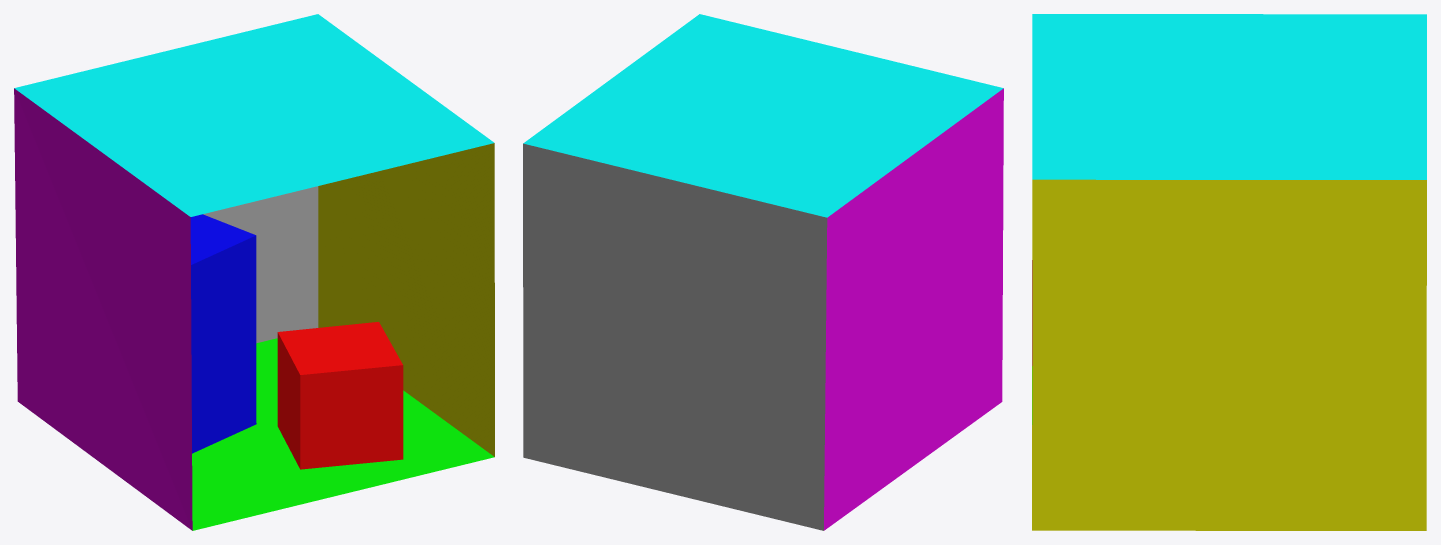
Rendered from cornell-box.obj.
The picture shows the model from 3 angles, left to right: view 1: azimuth 30°, elevation 25°; view 2: azimuth 150°, elevation 25°; view 3: azimuth 270°, elevation 25°; orthographic projection. The views are drawn at different scales.
Visible parts, largest first — view 1: left_wall, ceiling, right_wall, floor, short_box, tall_box, back_wall; view 2: back_wall, left_wall, ceiling; view 3: right_wall, ceiling.
Boxes of the visible parts, x1,y1,x2,y2 form: left_wall: [14, 88, 192, 530]; ceiling: [14, 14, 494, 216]; right_wall: [318, 143, 494, 456]; floor: [192, 338, 494, 530]; short_box: [277, 322, 403, 469]; tall_box: [190, 214, 256, 453]; back_wall: [203, 186, 318, 343]; back_wall: [523, 143, 827, 530]; left_wall: [824, 88, 1003, 530]; ceiling: [523, 14, 1003, 217]; right_wall: [1032, 179, 1426, 530]; ceiling: [1032, 14, 1426, 179].
Bounding box in the file's own units: 5.56 × 5.49 × 5.6.
